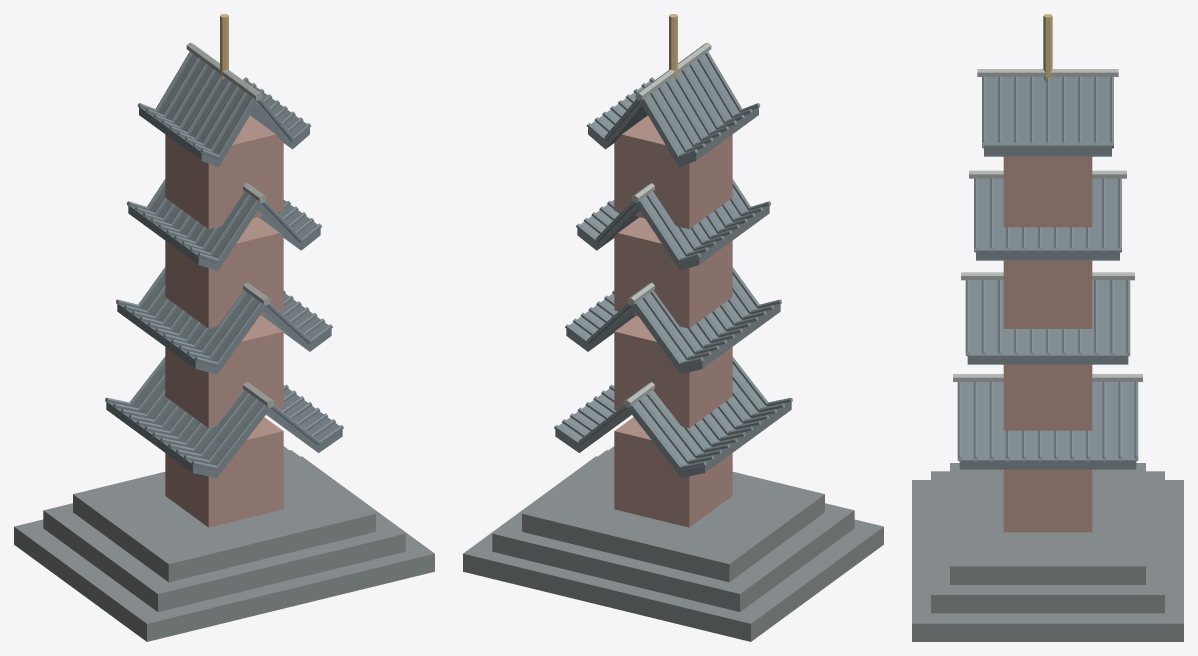
File: SM_ENV_Building_14_RitualPagoda.glb
3 renders of one model, left to right at view 1: azimuth 30°, elevation 25°; view 2: azimuth 150°, elevation 25°; view 3: azimuth 270°, elevation 25°, orthographic. The views are drawn at different scales.
Visible parts, largest first — view 1: SM_ENV_Building_14_RitualPagoda; view 2: SM_ENV_Building_14_RitualPagoda; view 3: SM_ENV_Building_14_RitualPagoda.
Boxes of the visible parts, left/top/right/bottom form: SM_ENV_Building_14_RitualPagoda: left=14, top=14, right=434, bottom=641; SM_ENV_Building_14_RitualPagoda: left=463, top=14, right=883, bottom=641; SM_ENV_Building_14_RitualPagoda: left=912, top=14, right=1183, bottom=641.
Bounding box in the file's own units: 5 × 9 × 4.
